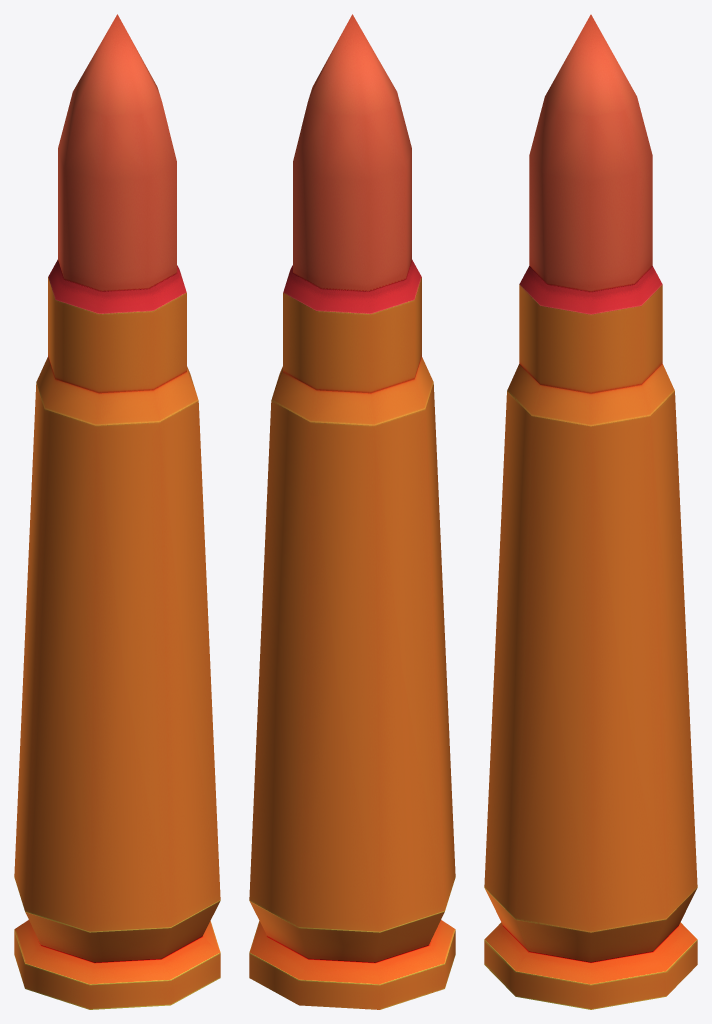
The model's file is dan.fbx.
3 renders of one model, left to right at view 1: azimuth 30°, elevation 25°; view 2: azimuth 150°, elevation 25°; view 3: azimuth 270°, elevation 25°, orthographic.
Visible parts, largest first — view 1: pCylinder1; view 2: pCylinder1; view 3: pCylinder1.
Part boxes in pixels (x1,y1,x2,y2): pCylinder1: (14,14,220,1009); pCylinder1: (249,14,455,1009); pCylinder1: (484,14,697,1009).
Size of the model in its own units: 1.18 by 5.79 by 1.18.
Materials: 1 (1 with a texture image).
